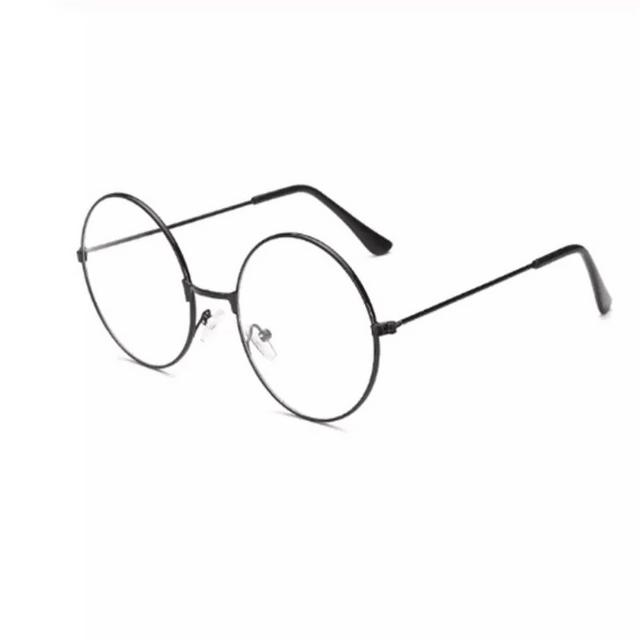glasses: (73, 174, 612, 430)
